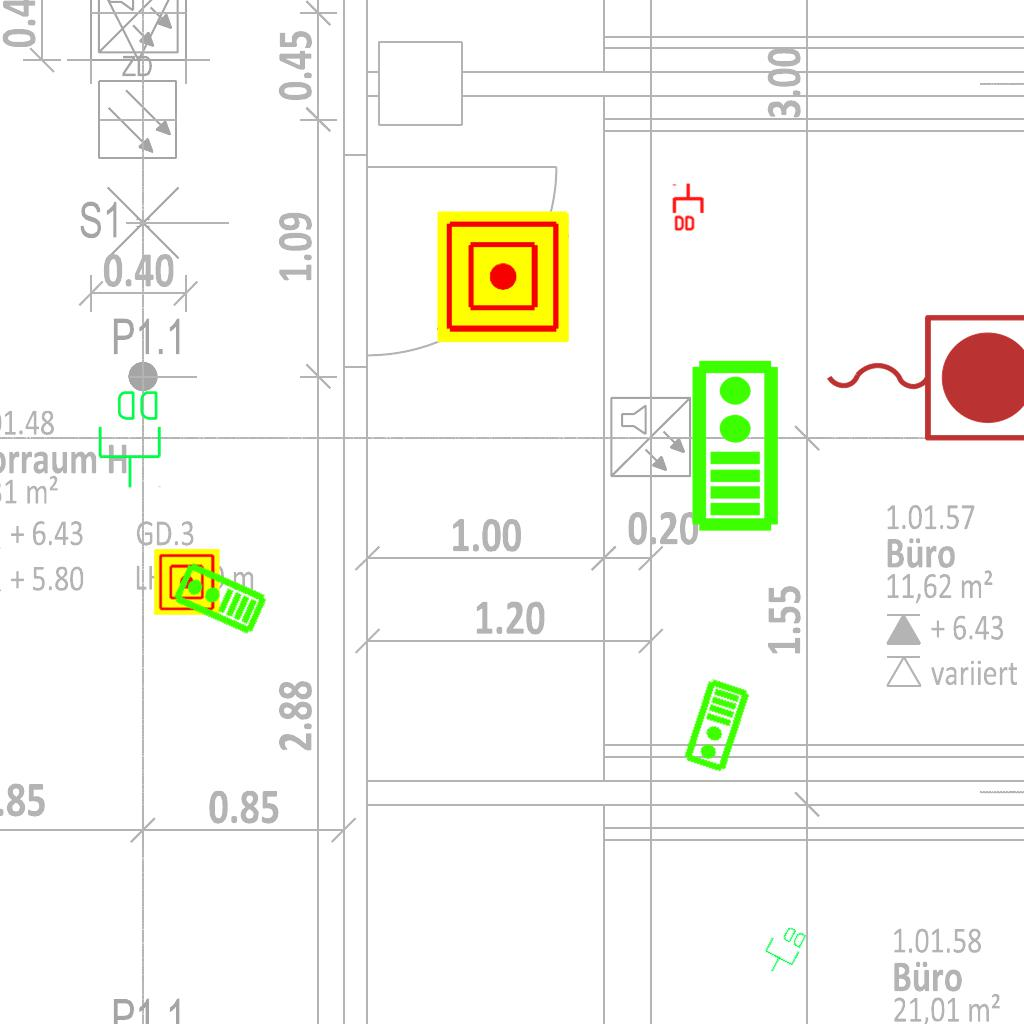Datenanschluss_zweifach: (96, 387, 165, 490), (756, 919, 811, 981), (672, 182, 706, 233)
Gegensprechanlage_mit_Video: (686, 357, 781, 533), (169, 559, 270, 639), (681, 676, 754, 776)
NAM-Nichtautomatischer_Melder: (437, 211, 569, 343), (154, 549, 220, 615)
Zugtaster: (816, 304, 1024, 448)
